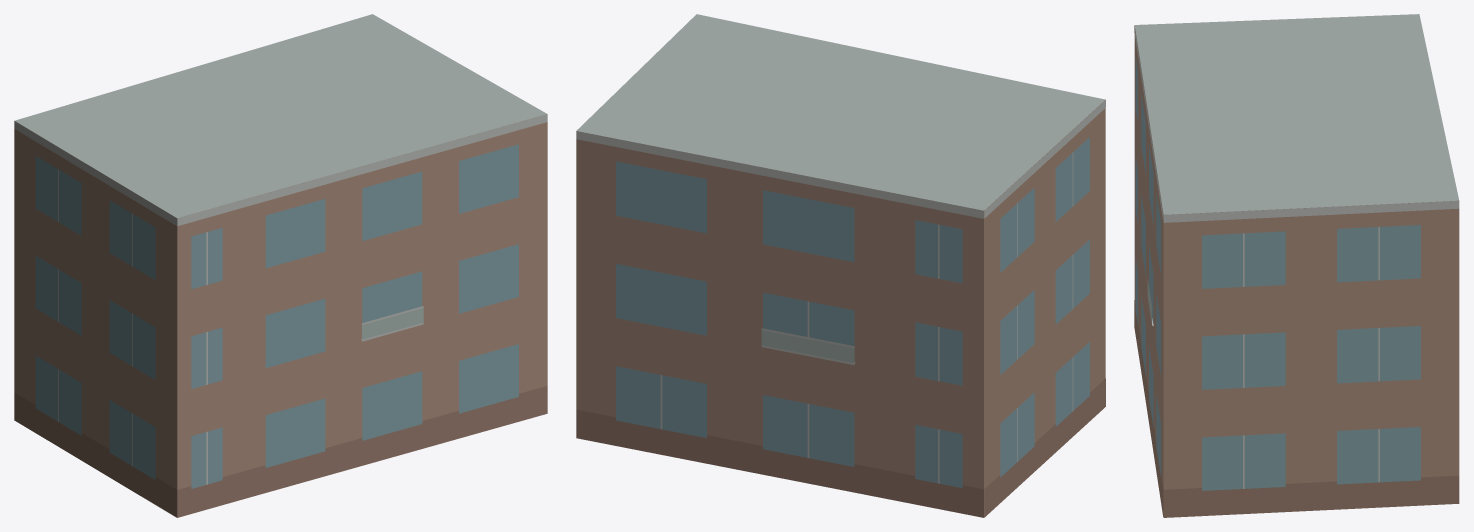
Rendered from survey-upis-32977359.glb.
The picture shows the model from 3 angles, left to right: view 1: azimuth 30°, elevation 25°; view 2: azimuth 150°, elevation 25°; view 3: azimuth 270°, elevation 25°; orthographic projection. The views are drawn at different scales.
Parts seen in each view (by area): view 1: survey-upis-32977359.tmp; view 2: survey-upis-32977359.tmp; view 3: survey-upis-32977359.tmp.
Part boxes in pixels (bbox=[...]): survey-upis-32977359.tmp: bbox=[14, 14, 547, 517]; survey-upis-32977359.tmp: bbox=[576, 14, 1105, 517]; survey-upis-32977359.tmp: bbox=[1134, 14, 1459, 517].
Size of the model in its own units: 13.01 by 9.15 by 8.9.
